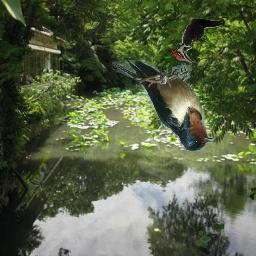Swallow: (113, 61, 214, 152)
Woodpecker: (169, 19, 226, 63)
